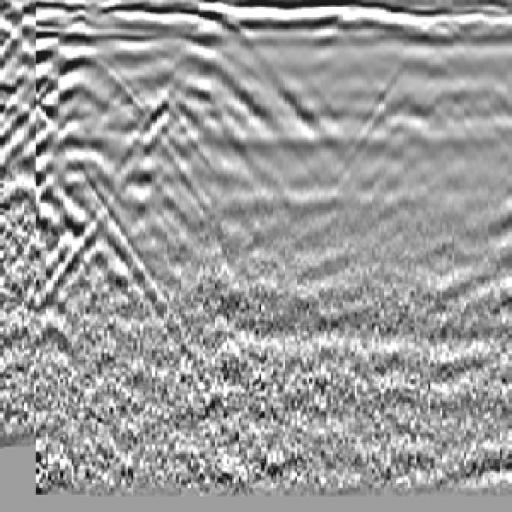non-metallic: (1, 35, 187, 236)
